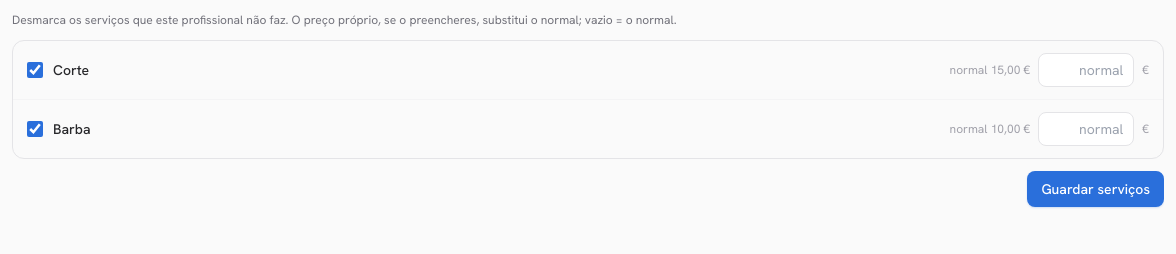
it: StaffServicesEditor — formulário do profissional › preço inválido → erro e nada é enviado
Type "abc" into the field named "Preço próprio em Corte".
click(1086, 70); type("abc")  # box [1038,53,1134,87]
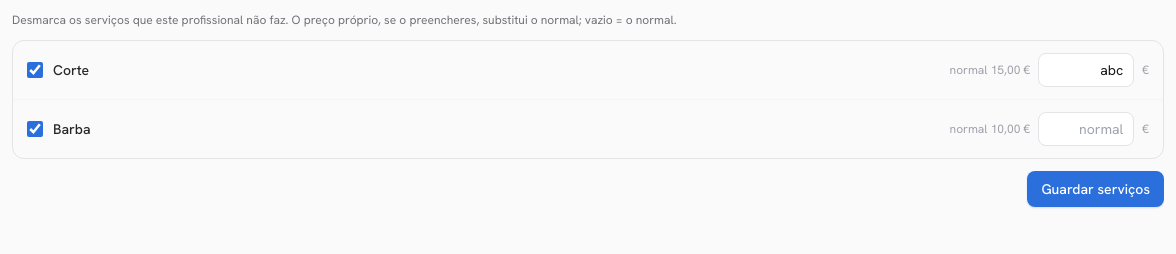
Click the button "Guardar serviços".
click(1096, 189)  # box [1027,171,1164,207]
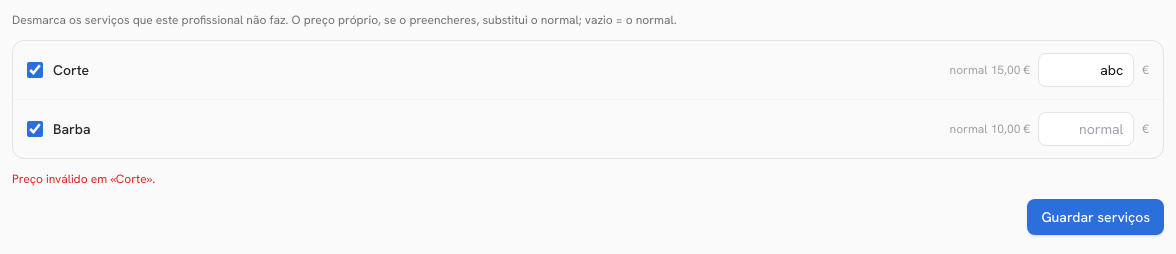
Expected: the message reads "Preço inválido em «Corte».", [12,171,155,187]
